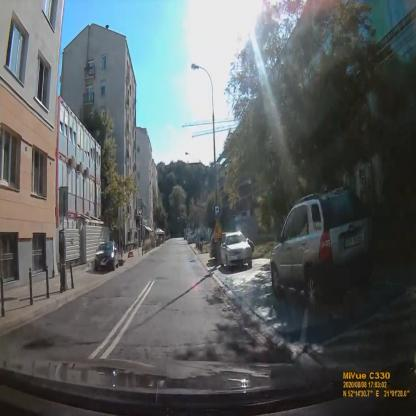cars: (272, 187, 374, 310), (220, 232, 253, 270), (95, 241, 120, 271)
